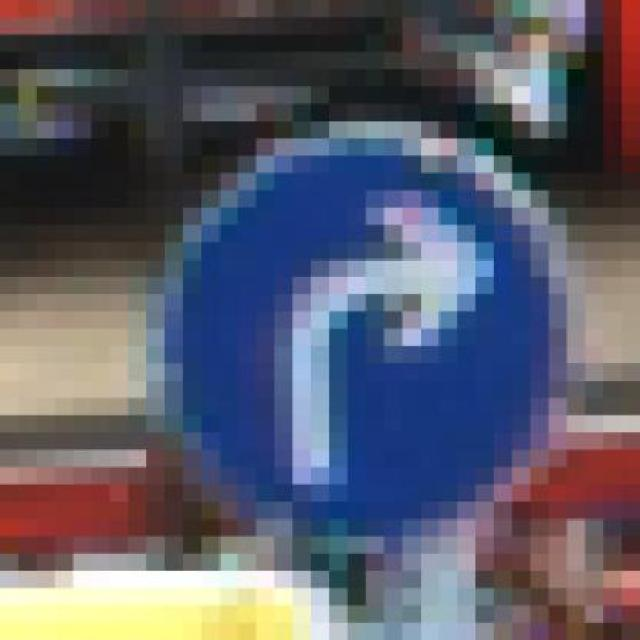Turn right ahead: (146, 103, 603, 571)
